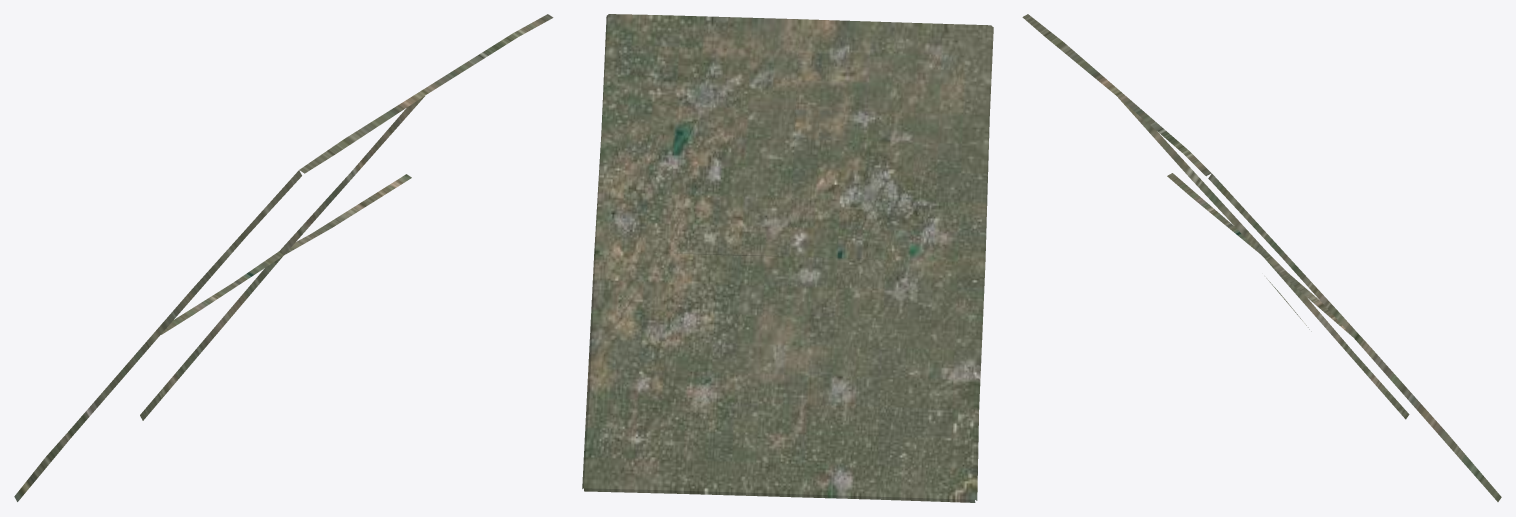
3 views of the same model, side by side, from view 1: azimuth 30°, elevation 25°; view 2: azimuth 150°, elevation 25°; view 3: azimuth 270°, elevation 25° (orthographic). The views are drawn at different scales.
Bounding box in the file's own units: 155715 × 126903 × 142135.
Materials: 1 (1 with a texture image).
